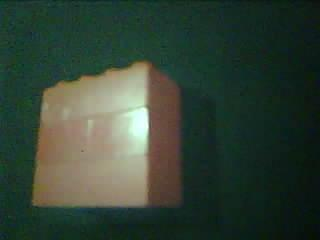lego: (28, 60, 183, 211)
